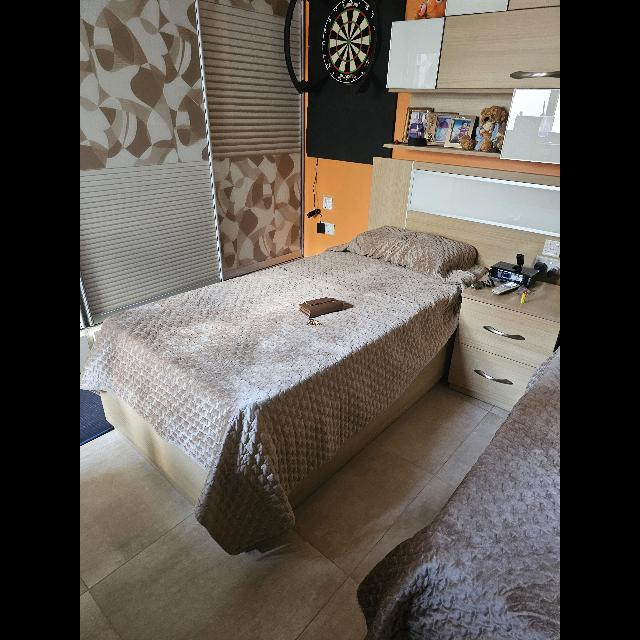Sunglasses: (471, 280, 494, 290)
Wallet: (300, 296, 348, 318)
